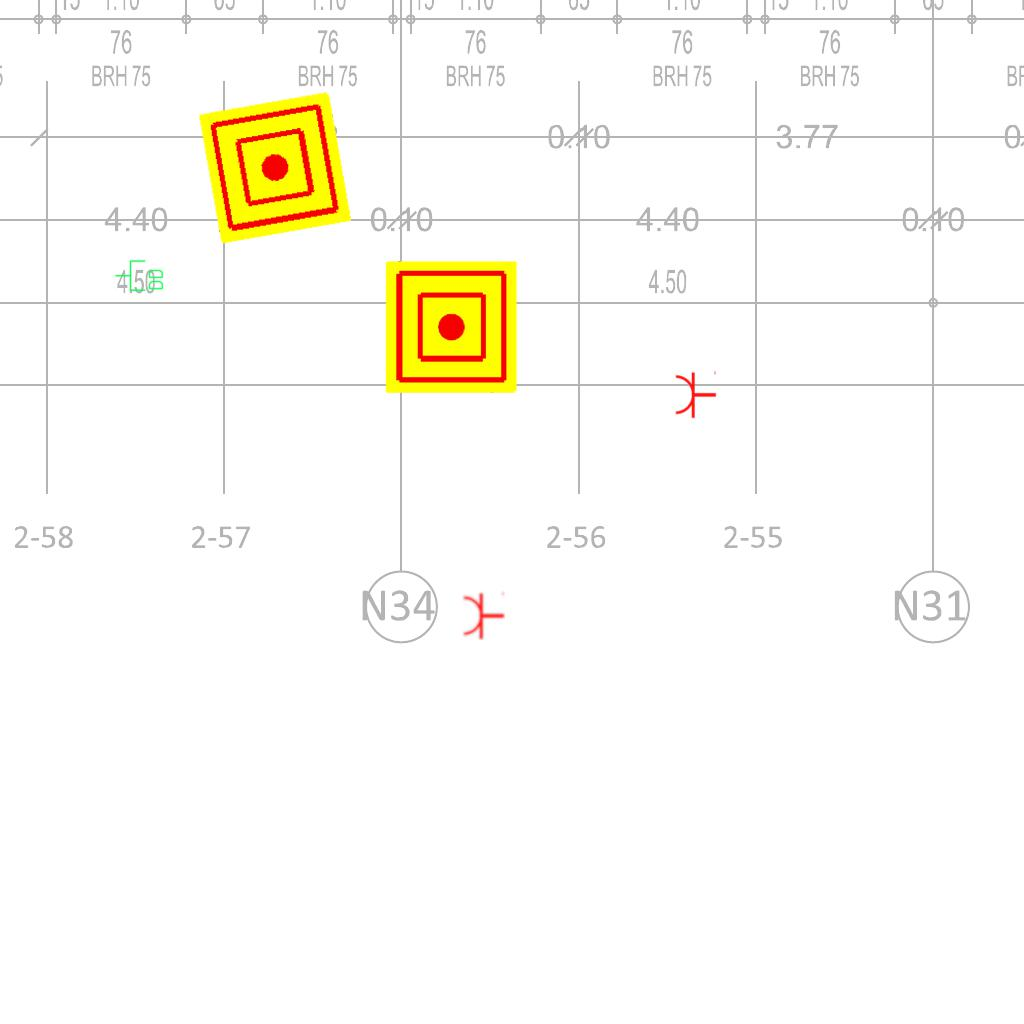Datenanschluss_zweifach: (114, 259, 165, 293)
NAM-Nichtautomatischer_Melder: (198, 91, 352, 245), (385, 261, 517, 393)
Schukosteckdose_einfach: (674, 369, 717, 419), (462, 590, 505, 640)
